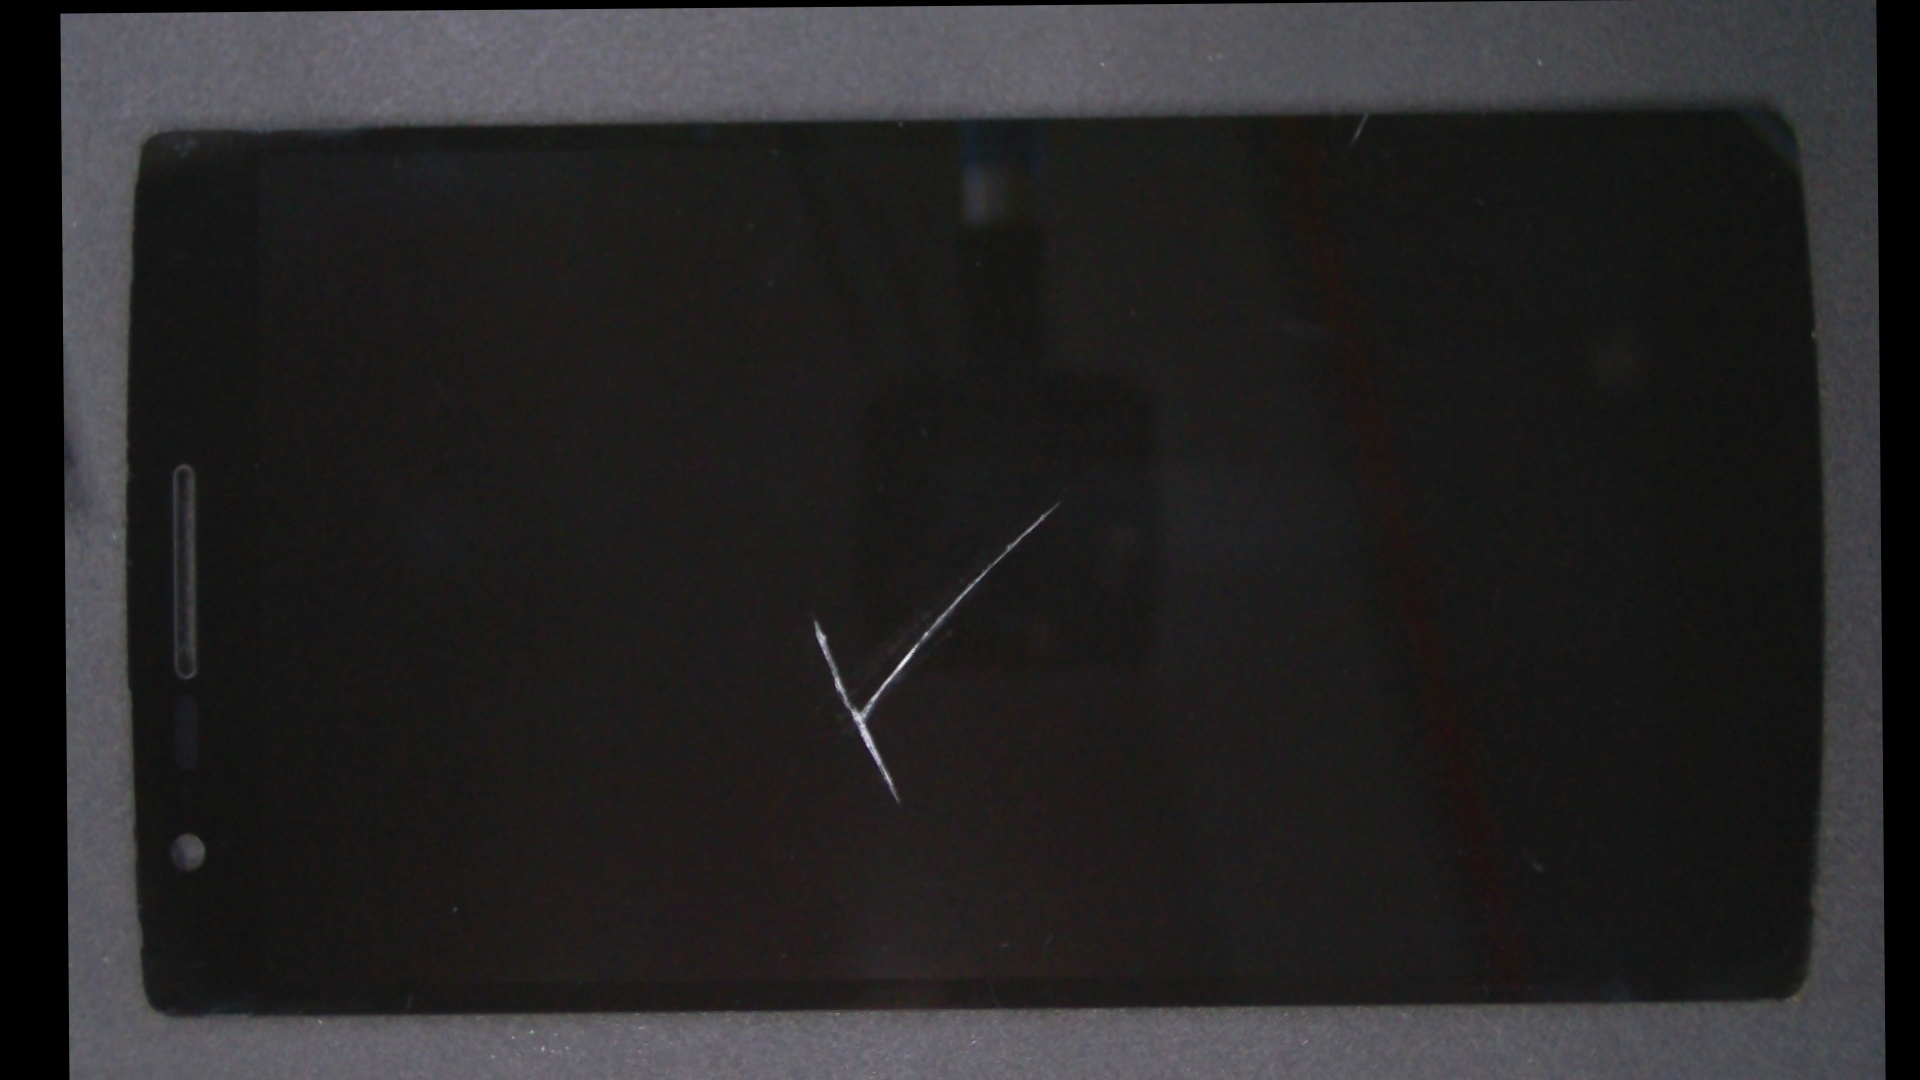oil: (560, 248, 1557, 753)
